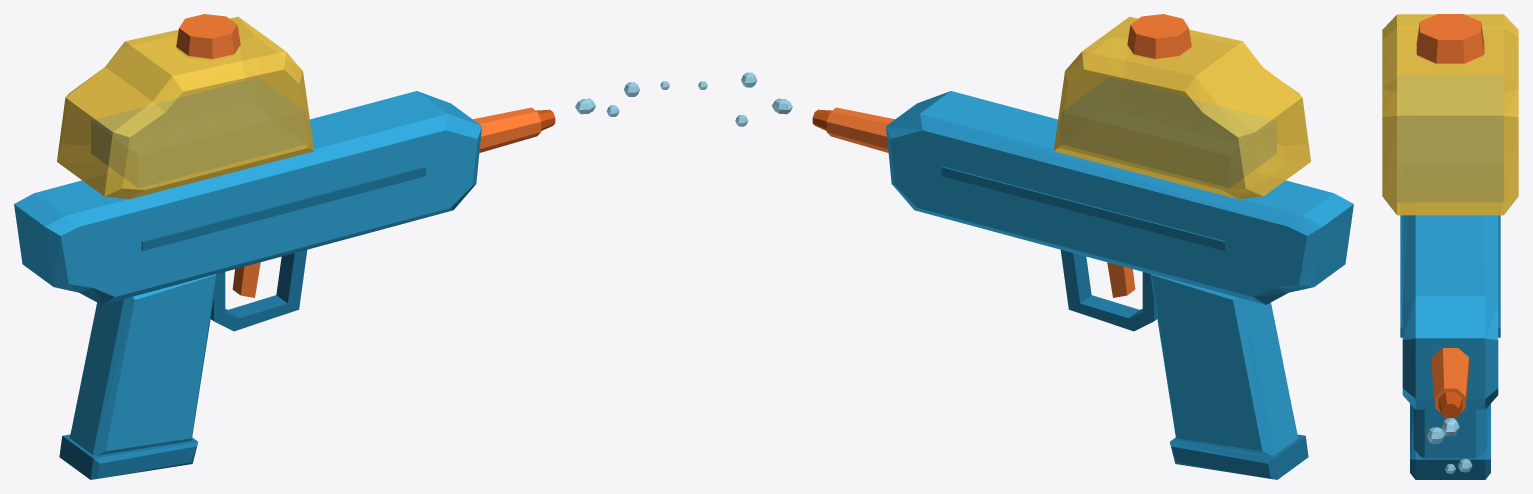
File: minnow.glb
3 views of the same model, side by side, from view 1: azimuth 30°, elevation 25°; view 2: azimuth 150°, elevation 25°; view 3: azimuth 270°, elevation 25° (orthographic). The views are drawn at different scales.
Visible parts, largest first — view 1: minnow; view 2: minnow; view 3: minnow.
Boxes of the visible parts, x1,y1,x2,y2 form: minnow: (14, 14, 669, 479); minnow: (698, 14, 1353, 479); minnow: (1382, 14, 1518, 479).
Bounding box in the file's own units: 0.4506 × 0.282 × 0.074.
